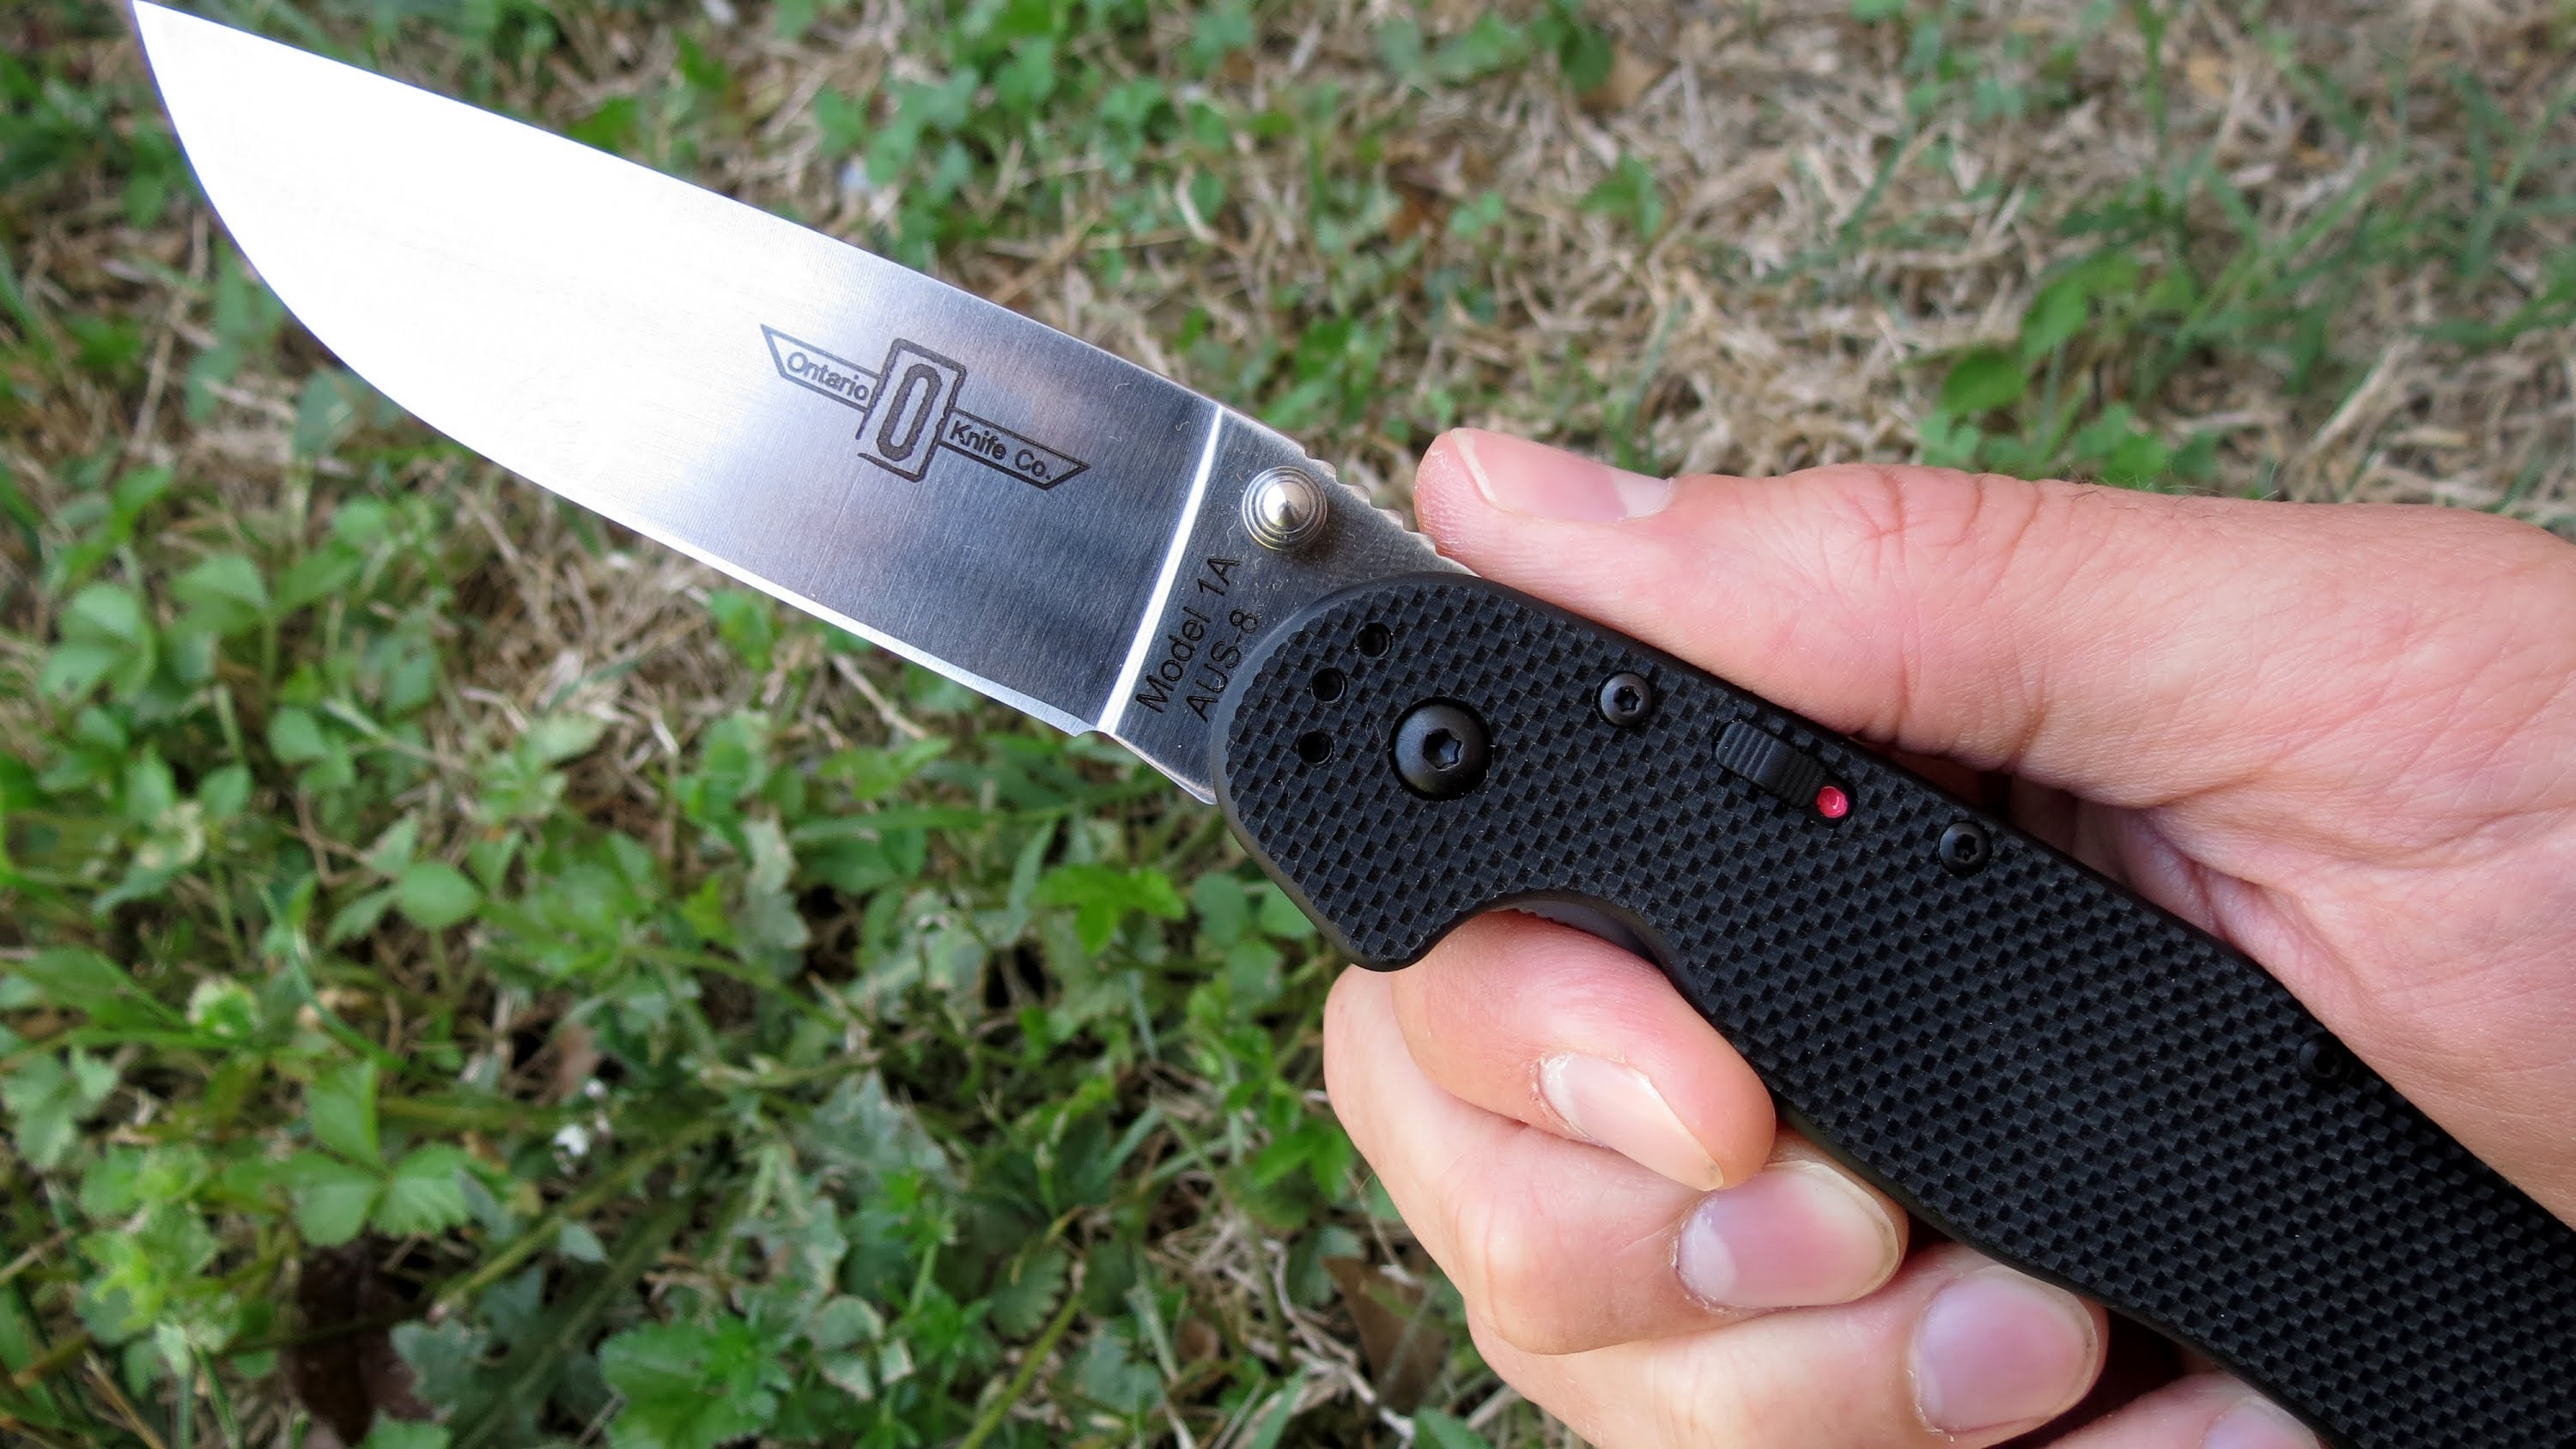knife: (0, 0, 1904, 1134)
